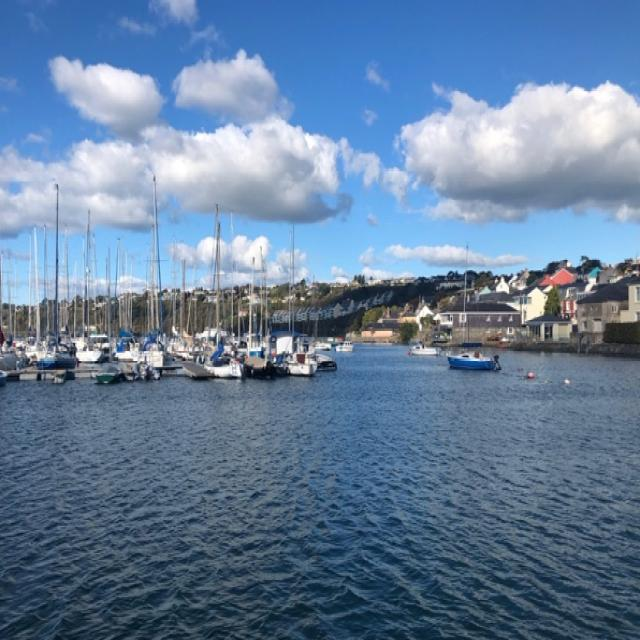houseboat: (261, 343, 324, 386), (447, 333, 521, 369), (180, 350, 244, 386)
